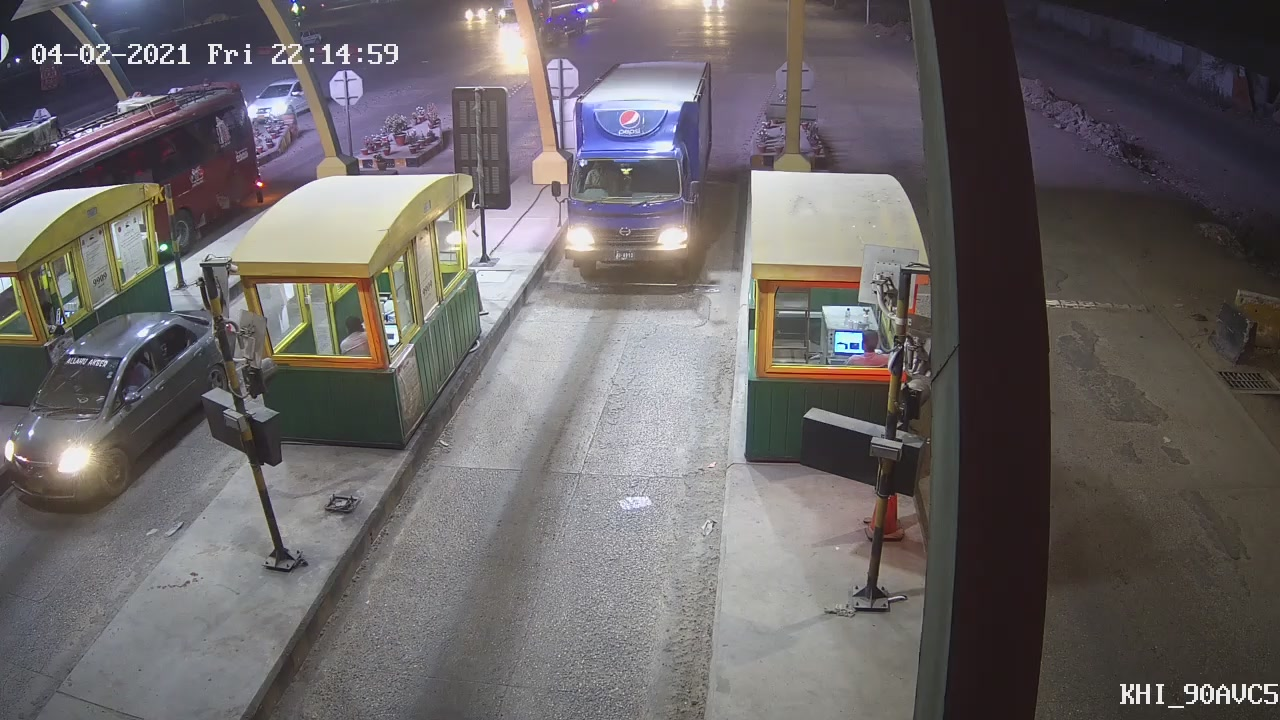F6: (550, 55, 725, 288)
